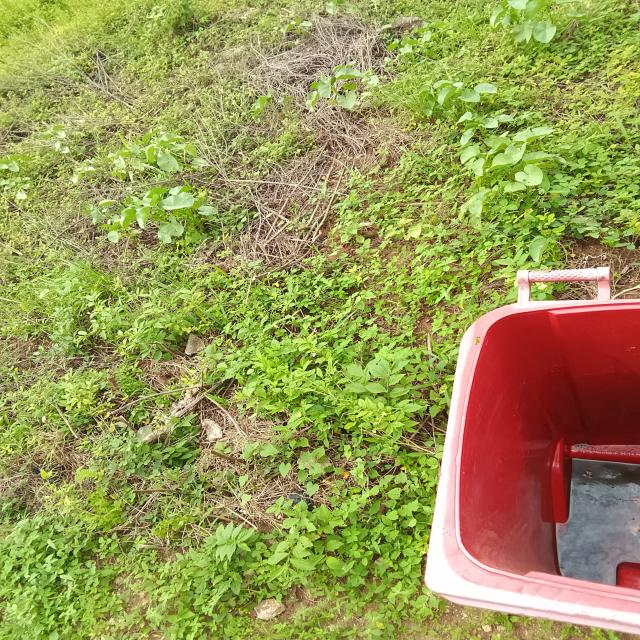empty: (430, 292, 636, 607)
